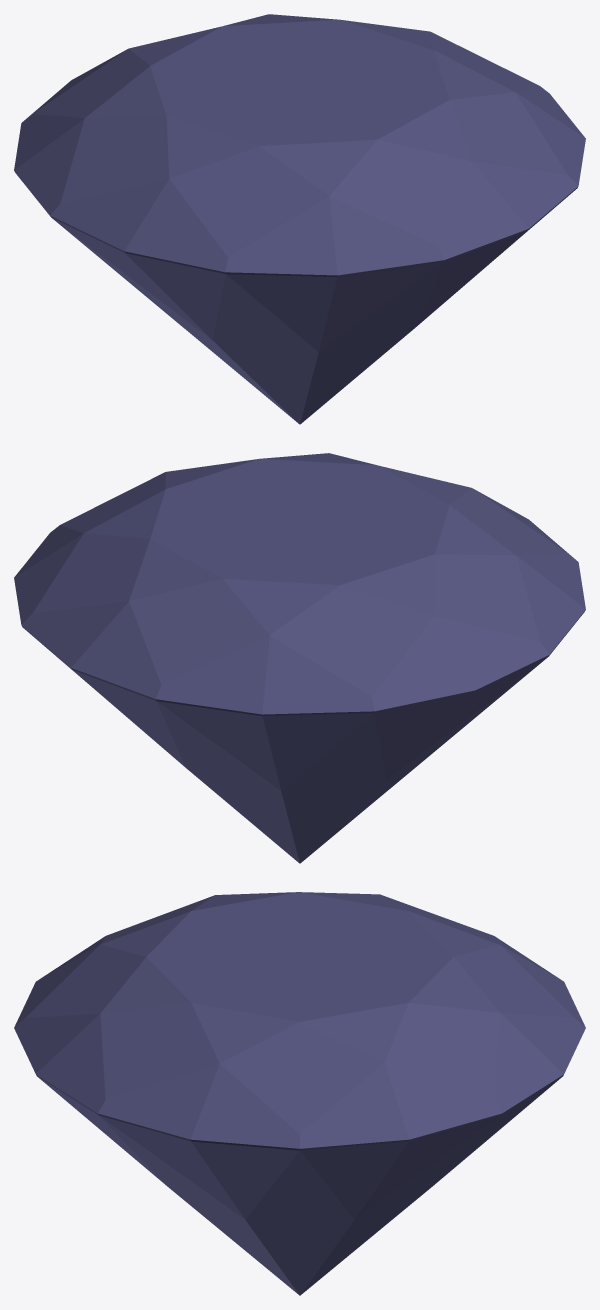
Rendered from diamond.glb.
The picture shows the model from 3 angles, top to bottom: view 1: azimuth 30°, elevation 25°; view 2: azimuth 150°, elevation 25°; view 3: azimuth 270°, elevation 25°; orthographic projection.
Parts seen in each view (by area): view 1: pCone1_lambert1_0; view 2: pCone1_lambert1_0; view 3: pCone1_lambert1_0.
Boxes of the visible parts, x1,y1,x2,y2 form: pCone1_lambert1_0: [14, 14, 585, 424]; pCone1_lambert1_0: [14, 453, 585, 863]; pCone1_lambert1_0: [14, 892, 585, 1295].
Size of the model in its own units: 10.81 by 7.07 by 10.81.
